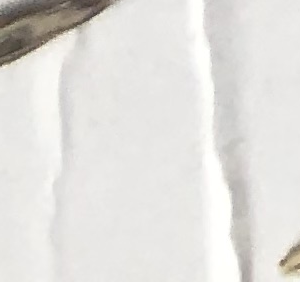Add a new class...: (3, 0, 127, 76)
